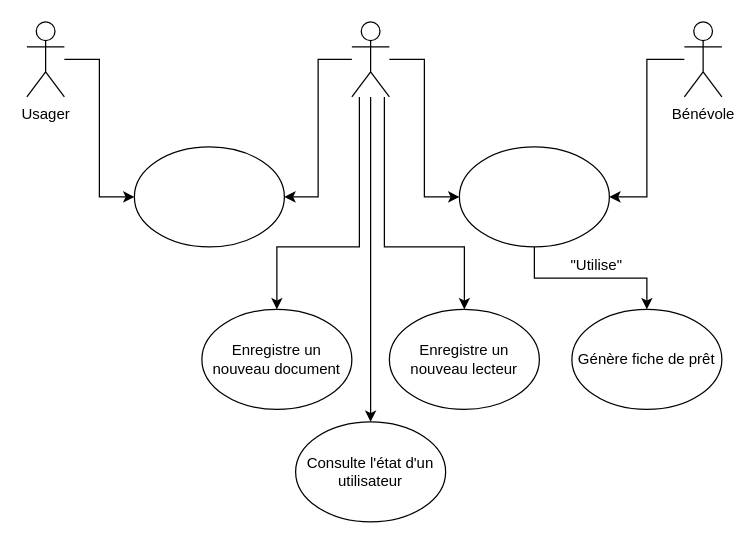
The diagram is 756 pixels wide and 544 high, and some of its shapes have lost their labels. Each missing label, with the box of its shape:
Consulte les documents: (133, 146, 284, 247)
Employé: (351, 21, 389, 97)
Enregistre de nouveau emprunt: (458, 146, 609, 247)
